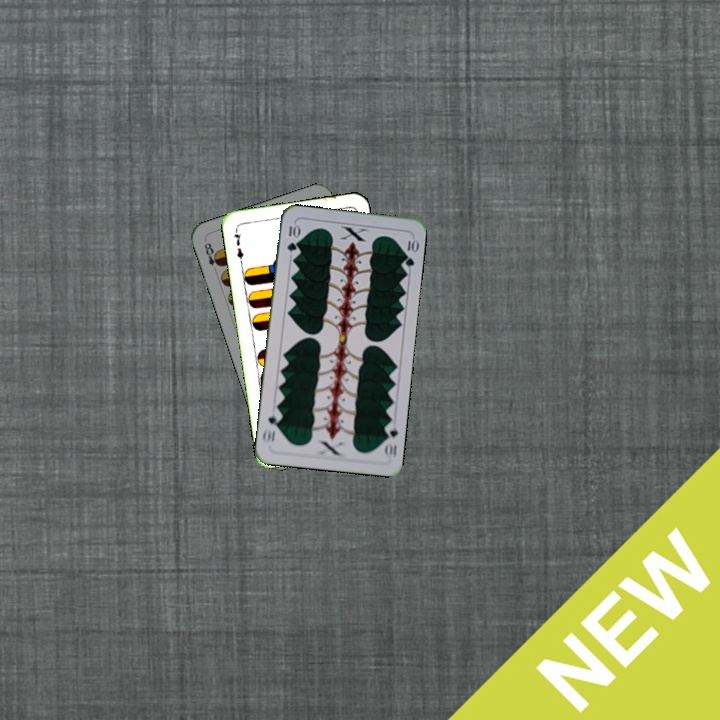E7: (230, 225, 246, 265)
E8: (200, 237, 224, 276)
G10: (380, 419, 400, 460), (283, 220, 301, 255)
